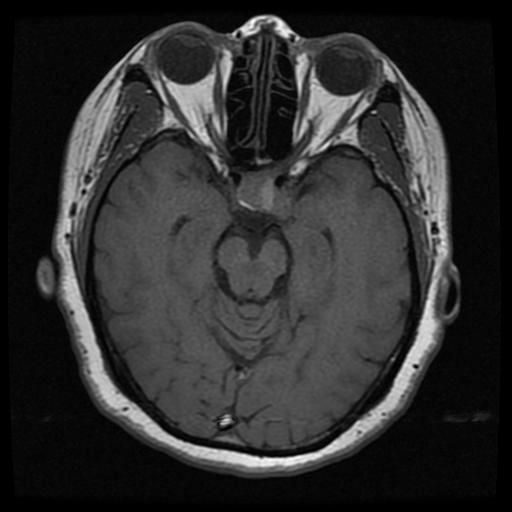Tumour-Pituitary: (219, 166, 291, 218)
